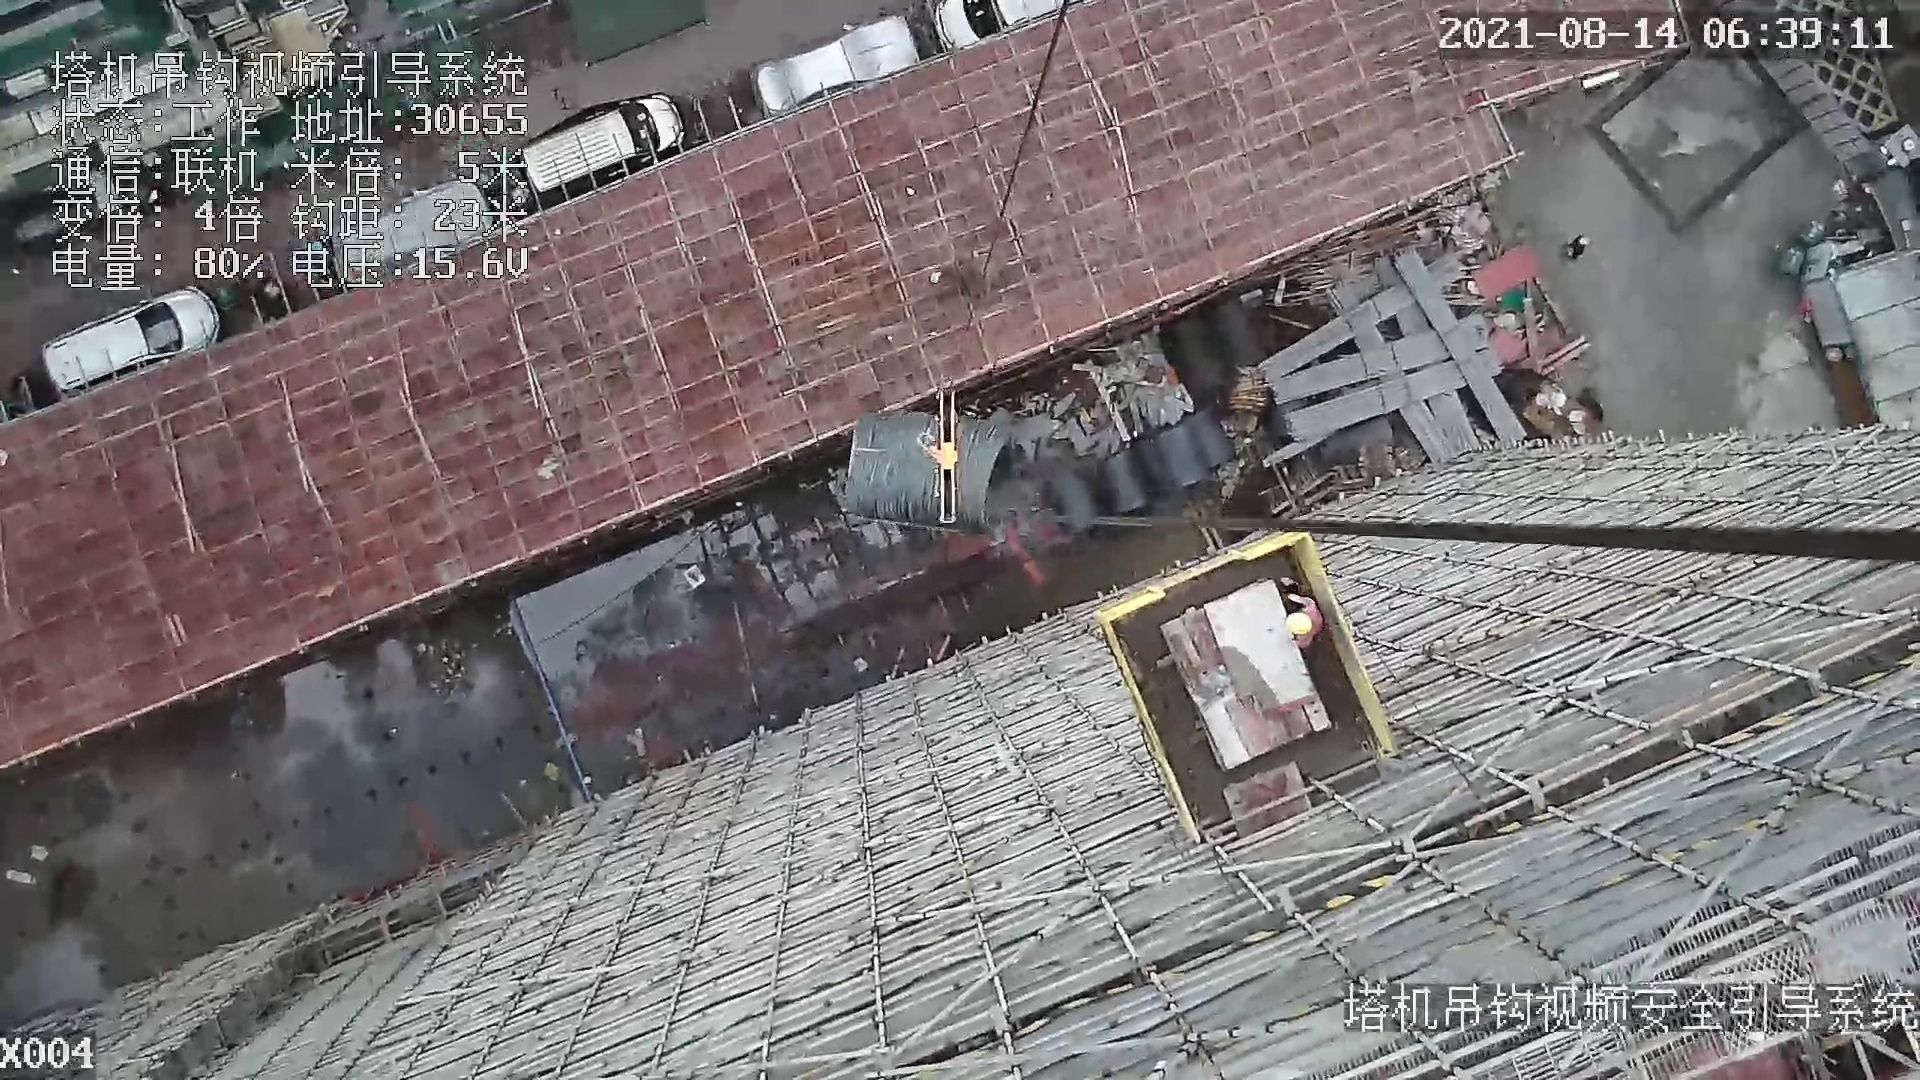helmet: (1277, 610, 1317, 635)
hook: (920, 389, 967, 522)
person: (1281, 582, 1329, 655)
